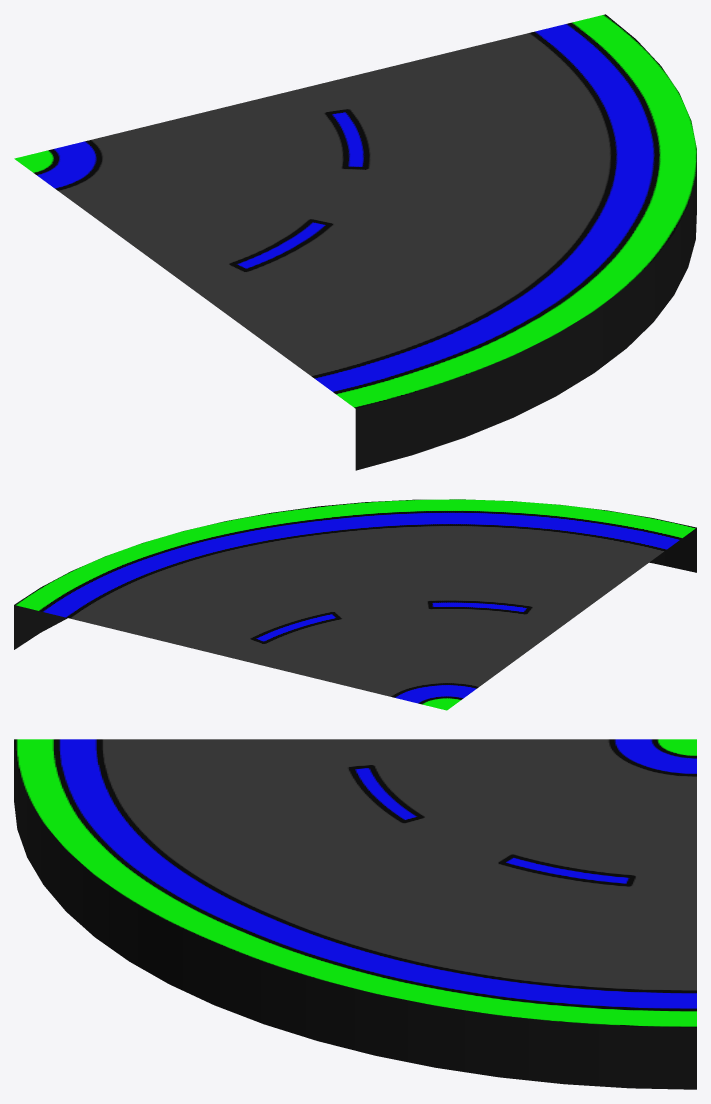
The model's file is SM_CityRoadCorner.FBX.
3 views of the same model, one above another, from view 1: azimuth 30°, elevation 25°; view 2: azimuth 150°, elevation 25°; view 3: azimuth 270°, elevation 25° (orthographic). The views are drawn at different scales.
Parts seen in each view (by area): view 1: Cylinder001; view 2: Cylinder001; view 3: Cylinder001.
Boxes of the visible parts, bbox=[...] form: Cylinder001: bbox=[14, 14, 696, 470]; Cylinder001: bbox=[14, 499, 696, 710]; Cylinder001: bbox=[14, 739, 696, 1089].
Size of the model in its own units: 1000 by 100 by 1000.
2 materials, 1 textured.
